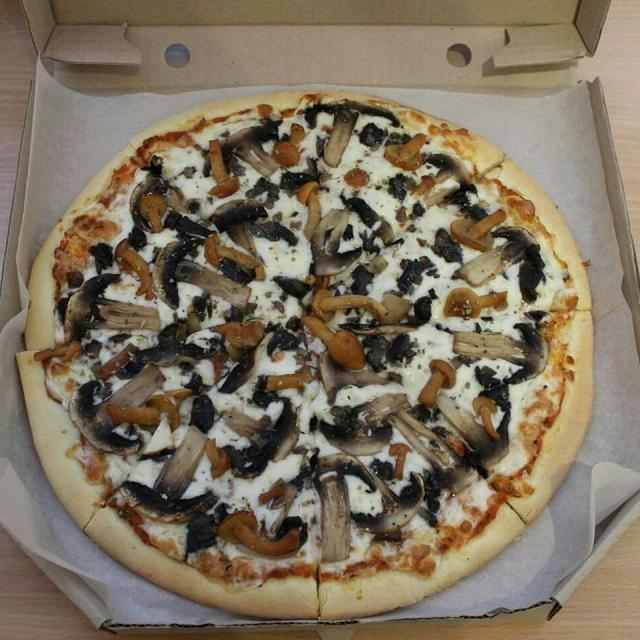pizza: (13, 89, 595, 625), (117, 426, 229, 525), (288, 446, 370, 556), (69, 364, 160, 461), (119, 175, 224, 256), (64, 273, 166, 345), (454, 319, 558, 386), (156, 238, 252, 310), (437, 394, 513, 477), (354, 450, 426, 536), (224, 399, 299, 478), (313, 100, 400, 165), (218, 508, 304, 564), (218, 121, 292, 184), (468, 226, 538, 290), (316, 342, 394, 397), (212, 198, 278, 260), (424, 152, 486, 216), (323, 400, 395, 454), (312, 203, 364, 276), (105, 388, 177, 439), (303, 279, 387, 322), (204, 132, 251, 208), (306, 311, 369, 364), (449, 197, 512, 248), (363, 196, 397, 287), (392, 249, 434, 319), (152, 318, 208, 370), (118, 238, 163, 298), (291, 175, 328, 245), (132, 185, 174, 242), (447, 278, 509, 316), (388, 130, 441, 174), (275, 118, 319, 170), (216, 344, 264, 387), (253, 362, 310, 398), (268, 310, 306, 358), (420, 354, 458, 398), (96, 344, 140, 381), (30, 338, 69, 375), (469, 391, 500, 437), (198, 433, 230, 473), (276, 268, 306, 306), (427, 230, 458, 259)
